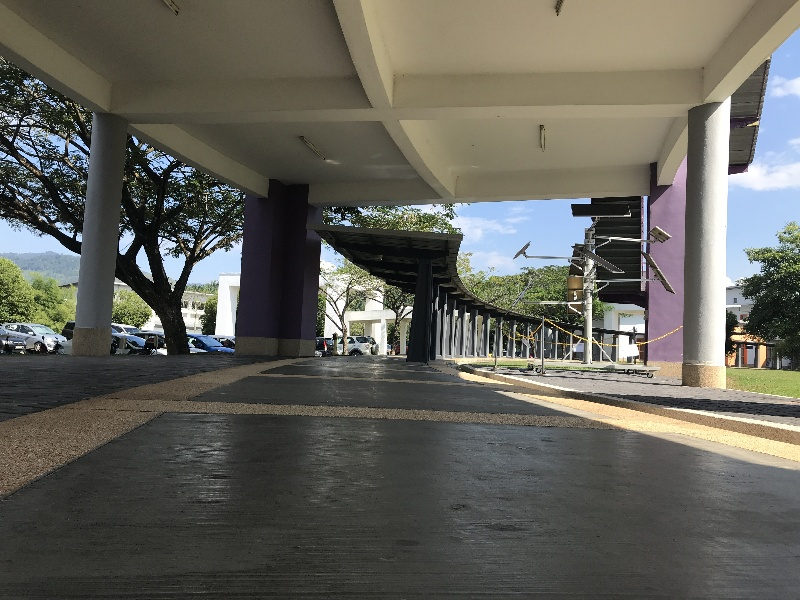Block D Pillar 5: (11, 15, 800, 534)
pillar: (671, 108, 742, 399), (58, 99, 132, 365), (232, 170, 326, 370), (636, 153, 694, 382), (400, 246, 446, 364)
